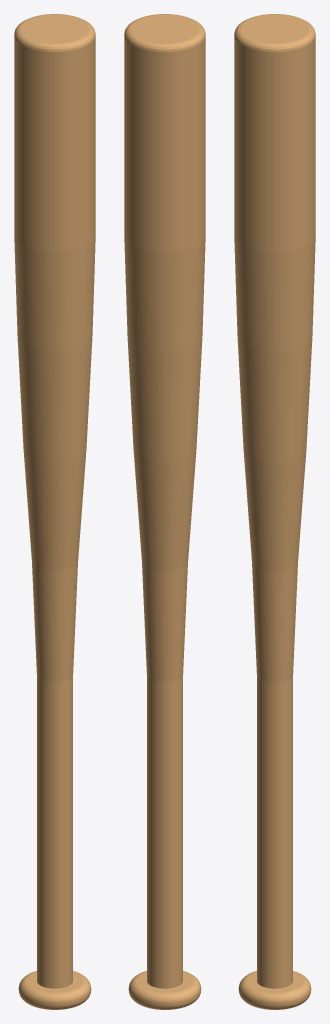
File: baseball_bat.dae
The picture shows the model from 3 angles, left to right: view 1: azimuth 90°, elevation 25°; view 2: azimuth 210°, elevation 25°; view 3: azimuth 270°, elevation 25°; orthographic projection.
Parts seen in each view (by area): view 1: Circle, Circle.001; view 2: Circle, Circle.001; view 3: Circle, Circle.001.
Boxes of the visible parts, left/top/right/bottom form: Circle: left=14, top=14, right=95, bottom=988; Circle.001: left=18, top=971, right=91, bottom=1009; Circle: left=124, top=14, right=205, bottom=988; Circle.001: left=128, top=971, right=201, bottom=1009; Circle: left=234, top=14, right=315, bottom=988; Circle.001: left=238, top=971, right=311, bottom=1009.
Size of the model in its own units: 4.5 by 4.5 by 59.
1 material, 1 textured.
